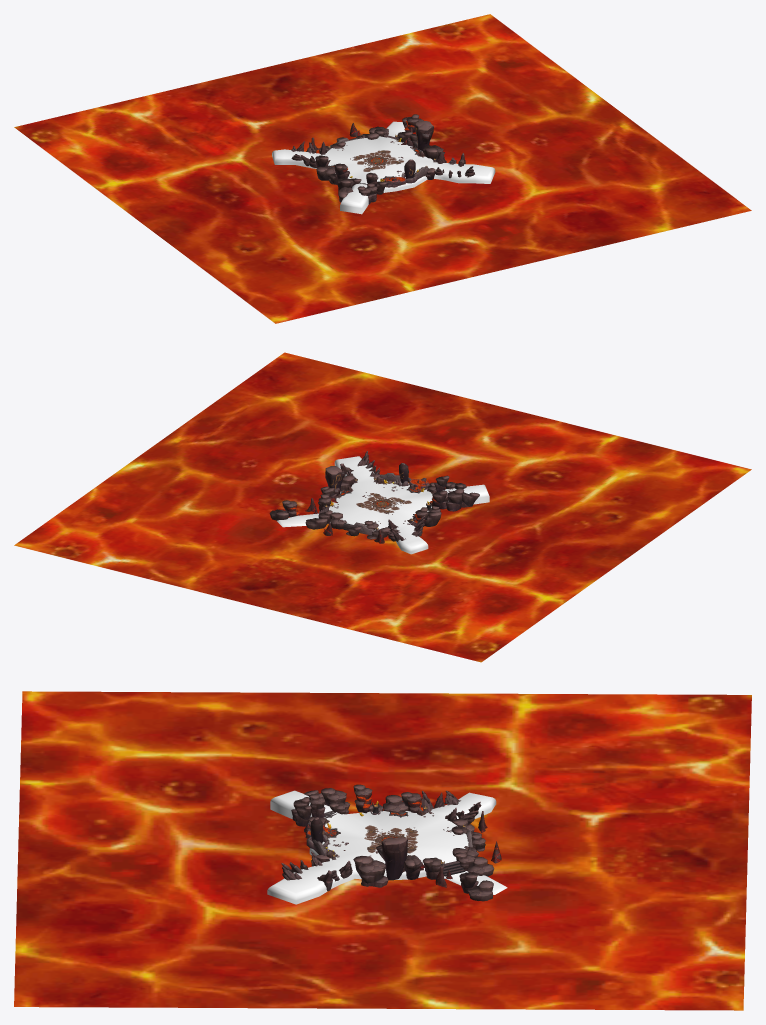
The model's file is huoshan.fbx.
3 renders of one model, top to bottom at view 1: azimuth 30°, elevation 25°; view 2: azimuth 150°, elevation 25°; view 3: azimuth 270°, elevation 25°, orthographic. The views are drawn at different scales.
Parts seen in each view (by area): view 1: huoshan_dibiao02, huoshan_dibiao04; view 2: huoshan_dibiao02, huoshan_dibiao04; view 3: huoshan_dibiao02, huoshan_dibiao04, huoshan_shitou02 (1), huoshan_shitou05 (11).
Part boxes in pixels (x1,y1,x2,y2): huoshan_dibiao02: [14, 14, 751, 323]; huoshan_dibiao04: [272, 121, 495, 214]; huoshan_dibiao02: [14, 352, 751, 662]; huoshan_dibiao04: [277, 456, 489, 554]; huoshan_dibiao02: [14, 691, 751, 1010]; huoshan_dibiao04: [267, 790, 507, 904]; huoshan_shitou02 (1): [376, 837, 407, 880]; huoshan_shitou05 (11): [353, 856, 388, 887].
Size of the model in its own units: 310 by 49 by 303.
7 materials, 6 textured.
